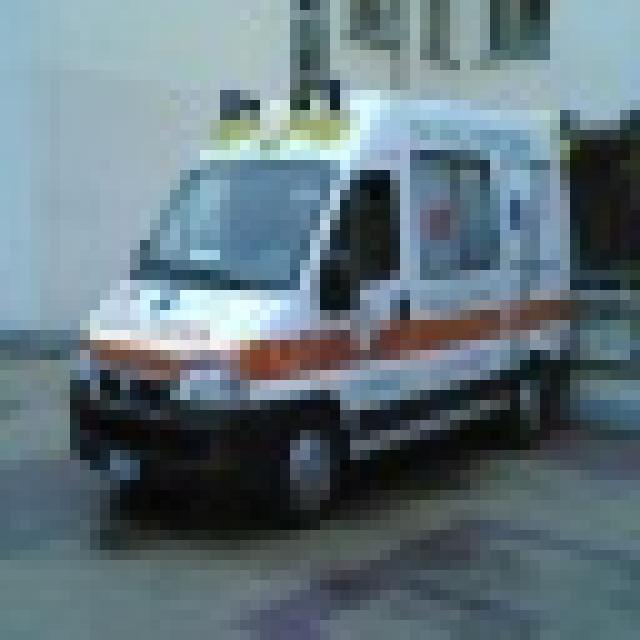Ambulance: (60, 80, 570, 520)
